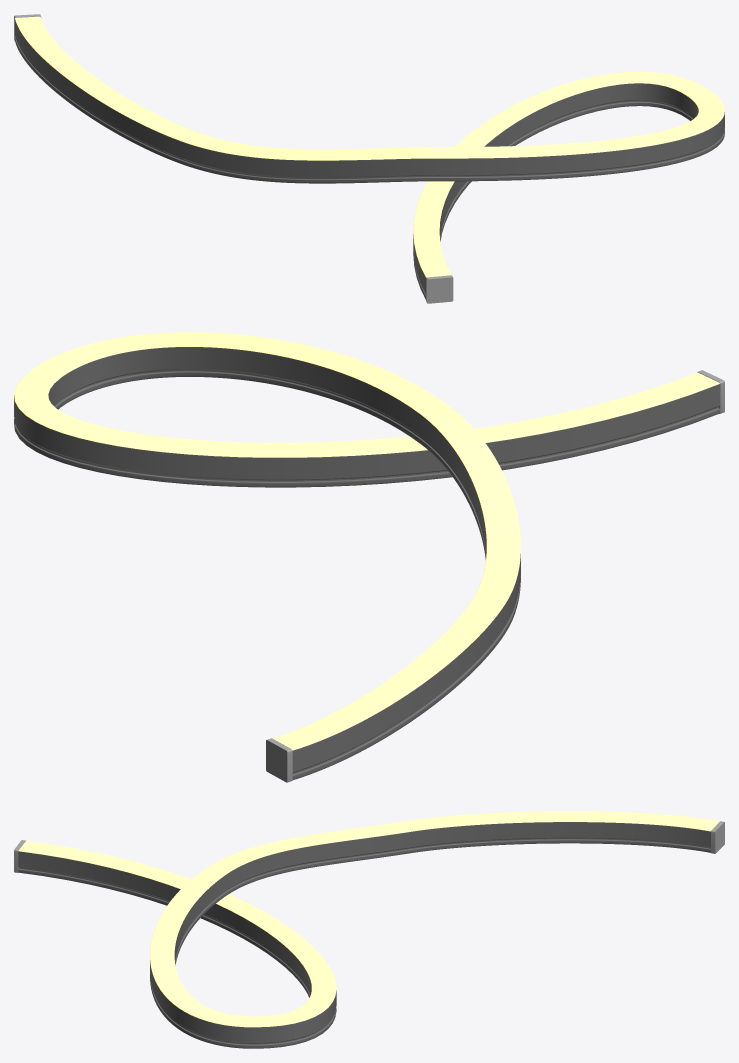
File: Lamp.fbx
3 renders of one model, top to bottom at view 1: azimuth 30°, elevation 25°; view 2: azimuth 150°, elevation 25°; view 3: azimuth 270°, elevation 25°, orthographic. The views are drawn at different scales.
Parts seen in each view (by area): view 1: Lamp; view 2: Lamp; view 3: Lamp.
Boxes of the visible parts, x1=… form: Lamp: x1=14, y1=14, x2=724, y2=303; Lamp: x1=14, y1=332, x2=724, y2=782; Lamp: x1=14, y1=811, x2=724, y2=1048.
Size of the model in its own units: 331 by 32.2 by 461.
